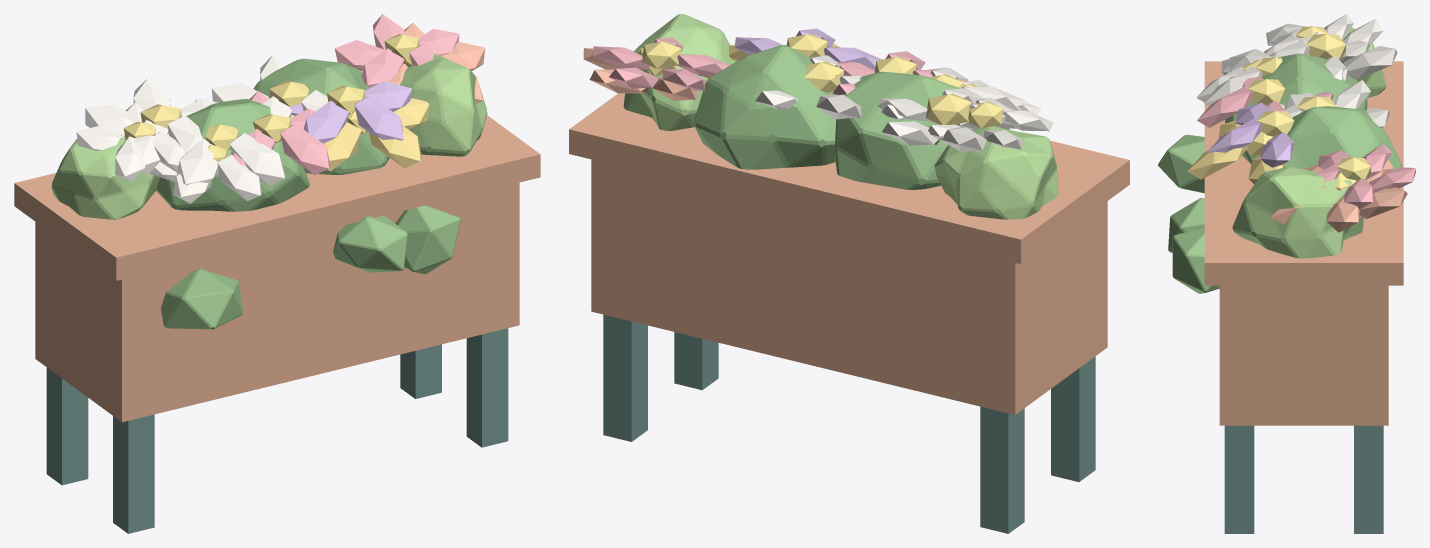
The model's file is Prop_Planter_A.fbx.
The picture shows the model from 3 angles, left to right: view 1: azimuth 30°, elevation 25°; view 2: azimuth 150°, elevation 25°; view 3: azimuth 270°, elevation 25°; orthographic projection. The views are drawn at different scales.
Parts seen in each view (by area): view 1: Prop_Planter_A, Prop_Planter_A_Veg; view 2: Prop_Planter_A, Prop_Planter_A_Veg; view 3: Prop_Planter_A, Prop_Planter_A_Veg.
Boxes of the visible parts, left/top/right/bottom form: Prop_Planter_A: left=14, top=115, right=540, bottom=533; Prop_Planter_A_Veg: left=51, top=14, right=487, bottom=329; Prop_Planter_A: left=569, top=93, right=1129, bottom=533; Prop_Planter_A_Veg: left=583, top=14, right=1058, bottom=219; Prop_Planter_A: left=1204, top=61, right=1403, bottom=533; Prop_Planter_A_Veg: left=1158, top=14, right=1415, bottom=293.
Size of the model in its own units: 0.9971 by 0.8049 by 0.5192.
